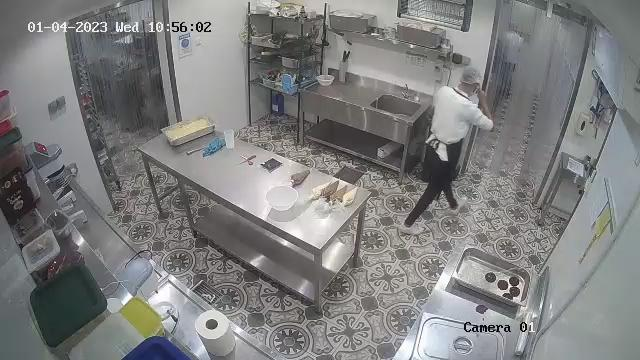apron: (429, 124, 465, 165)
